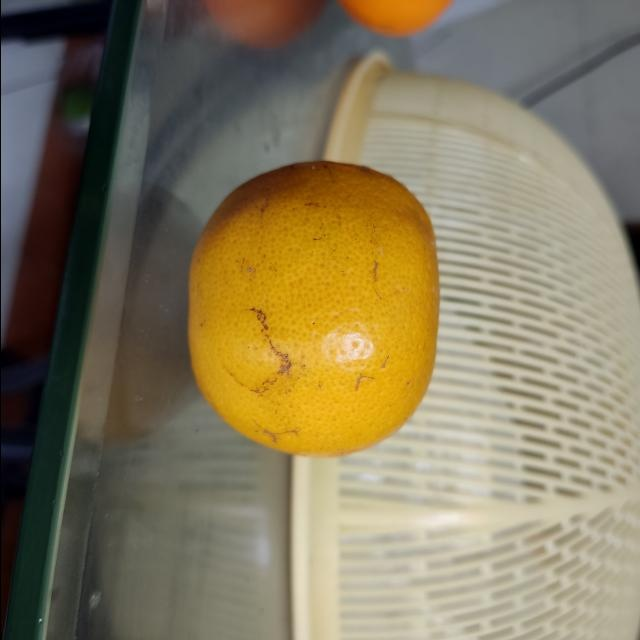agrume: (182, 160, 442, 466)
